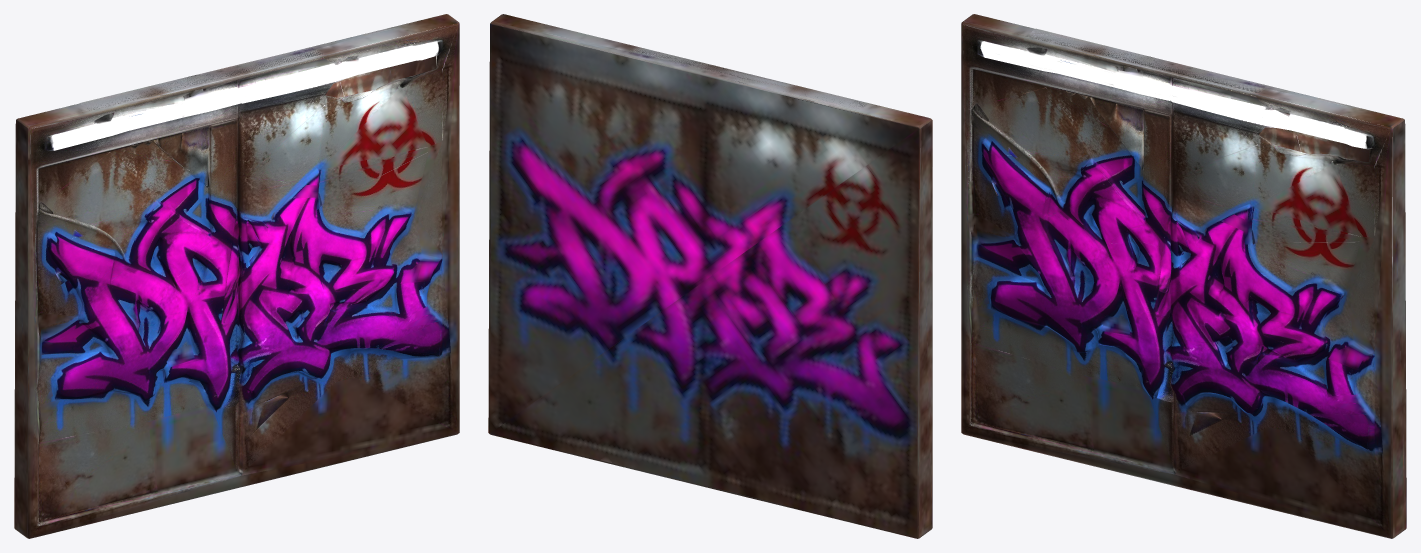
File: Wall_Metal_3.glb
3 renders of one model, left to right at view 1: azimuth 30°, elevation 25°; view 2: azimuth 150°, elevation 25°; view 3: azimuth 330°, elevation 25°, orthographic.
Size of the model in its own units: 1.91 by 1.74 by 0.1291.
Materials: 1 (1 with a texture image).
